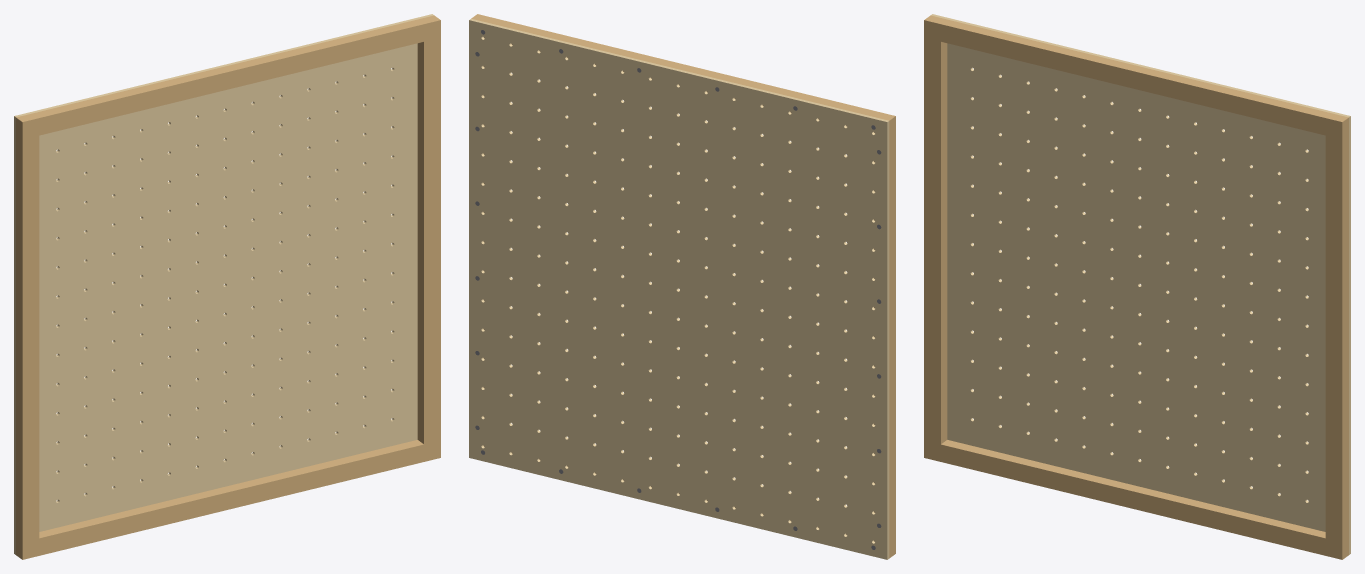
3 renders of one model, left to right at view 1: azimuth 30°, elevation 25°; view 2: azimuth 150°, elevation 25°; view 3: azimuth 330°, elevation 25°, orthographic.
Parts seen in each view (by area): view 1: panel, rail_h_2, rail_h_1, rail_v_1, rail_v_2; view 2: panel, rail_h_2, rail_v_1; view 3: panel, rail_h_2, rail_h_1, rail_v_2, rail_v_1.
Part boxes in pixels (box(x1,y1,x2,y2)): panel: box(14, 14, 433, 554); rail_h_2: box(16, 15, 440, 139); rail_h_1: box(16, 440, 440, 559); rail_v_1: box(16, 135, 39, 542); rail_v_2: box(417, 37, 440, 444); panel: box(469, 18, 889, 559); rail_h_2: box(471, 14, 895, 137); rail_v_1: box(874, 134, 895, 540); panel: box(931, 14, 1350, 554); rail_h_2: box(924, 15, 1348, 139); rail_h_1: box(924, 440, 1348, 559); rail_v_2: box(1325, 135, 1348, 542); rail_v_1: box(924, 37, 947, 444).
Bounding box in the file's own units: 750 × 750 × 26.
